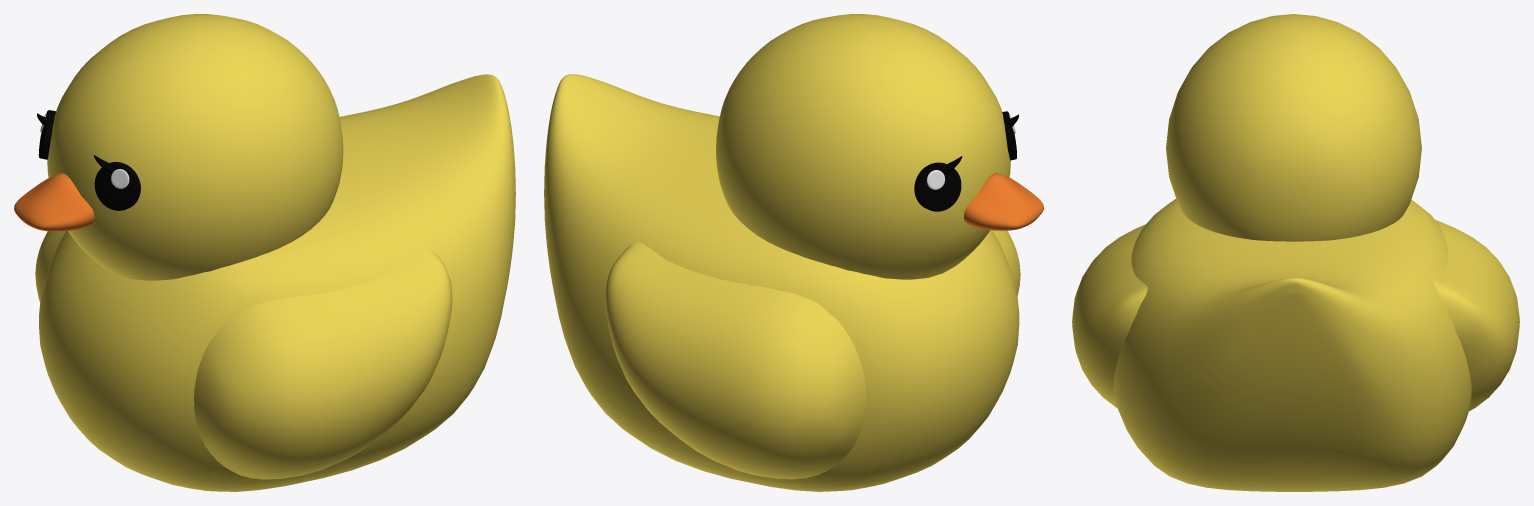
Rendered from golden_duck.fbx.
The picture shows the model from 3 angles, left to right: view 1: azimuth 30°, elevation 25°; view 2: azimuth 150°, elevation 25°; view 3: azimuth 270°, elevation 25°; orthographic projection. The views are drawn at different scales.
Parts seen in each view (by area): view 1: Sphere.009; view 2: Sphere.009; view 3: Sphere.009.
Part boxes in pixels (box(x1,y1,x2,y2)): Sphere.009: box(14, 14, 515, 491); Sphere.009: box(544, 14, 1043, 491); Sphere.009: box(1072, 14, 1519, 491).
Size of the model in its own units: 35.26 by 31.23 by 30.9.
